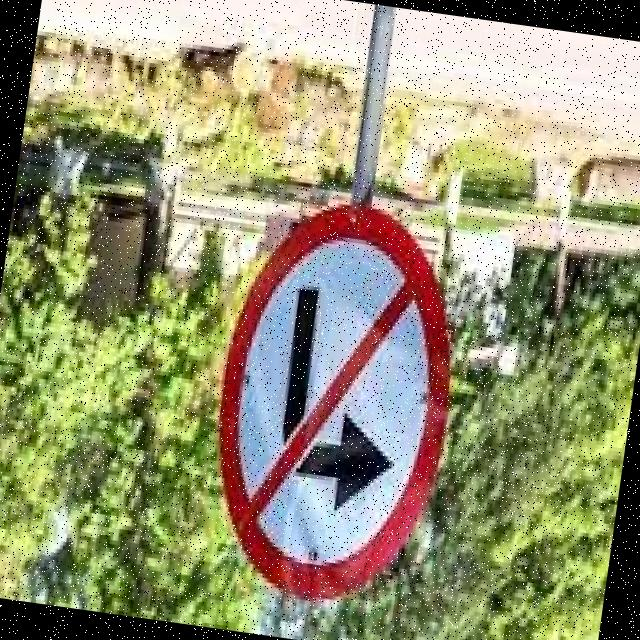do_not_turn_right: (188, 185, 484, 624)
